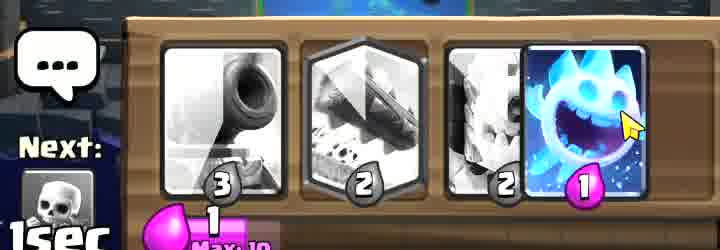ice-golem: (447, 76, 522, 193)
ice-spirit: (528, 43, 648, 204)
